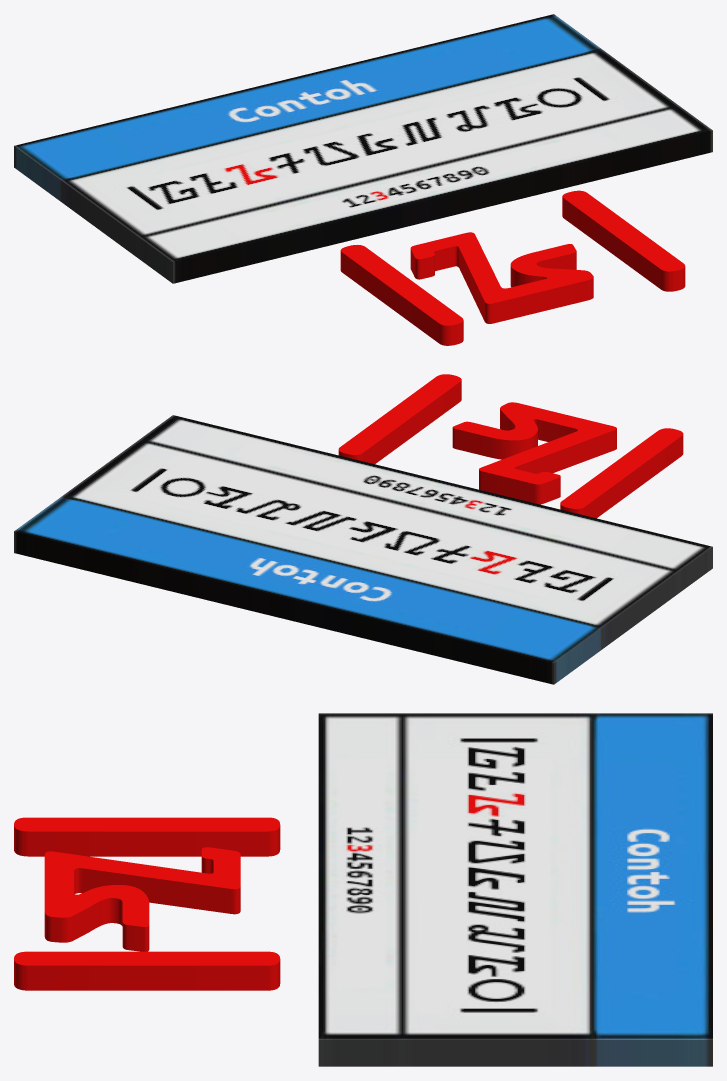
The picture shows the model from 3 angles, top to bottom: view 1: azimuth 30°, elevation 25°; view 2: azimuth 150°, elevation 25°; view 3: azimuth 270°, elevation 25°; orthographic projection. The views are drawn at different scales.
Parts seen in each view (by area): view 1: contoh-3-Angka, Text; view 2: contoh-3-Angka, Text; view 3: contoh-3-Angka, Text.
Boxes of the visible parts, <box> form: contoh-3-Angka: <box>14,14,712,283</box>; Text: <box>340,190,685,345</box>; contoh-3-Angka: <box>14,415,712,684</box>; Text: <box>338,374,683,518</box>; contoh-3-Angka: <box>318,713,712,1066</box>; Text: <box>14,817,280,990</box>.
Size of the model in its own units: 1.96 by 0.11 by 1.77.
2 materials, 1 textured.
